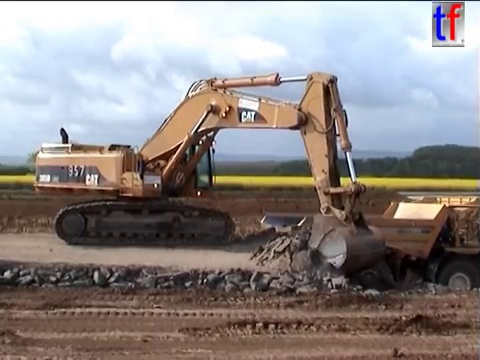excavator: (30, 68, 387, 284)
truck: (256, 194, 480, 309)
